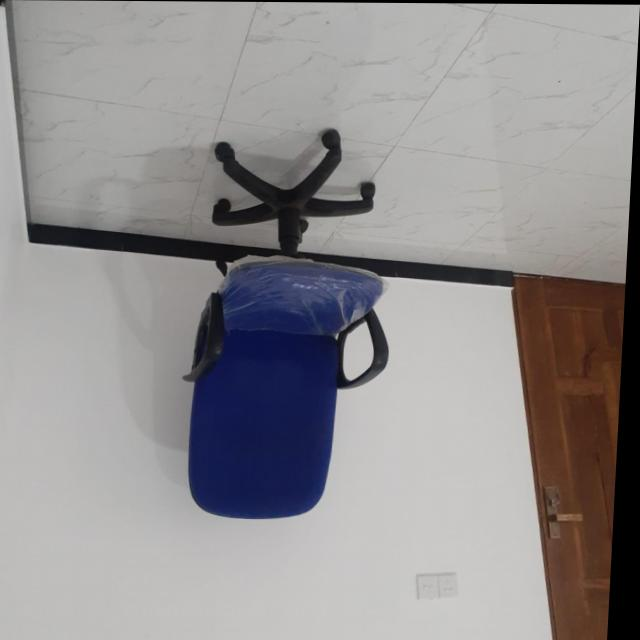Chair: (179, 125, 402, 521)
